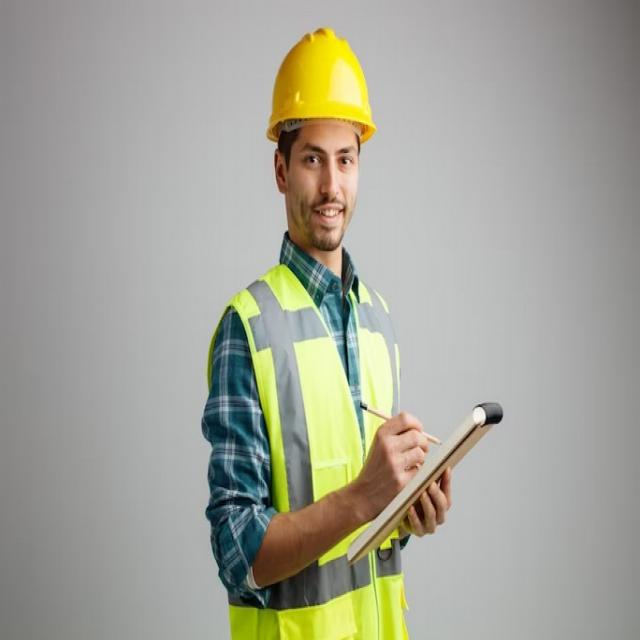helmet: (256, 18, 383, 156)
